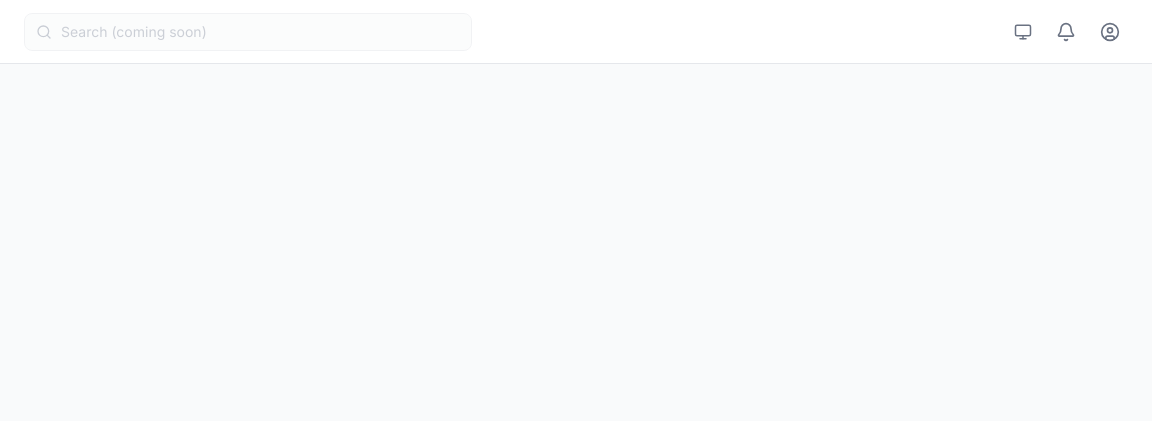
Test: Admin Header user menu › shows password form when Change Password is clicked
Click the button with test id "user-menu-button" at (1110, 32), box [1092,14,1128,50]
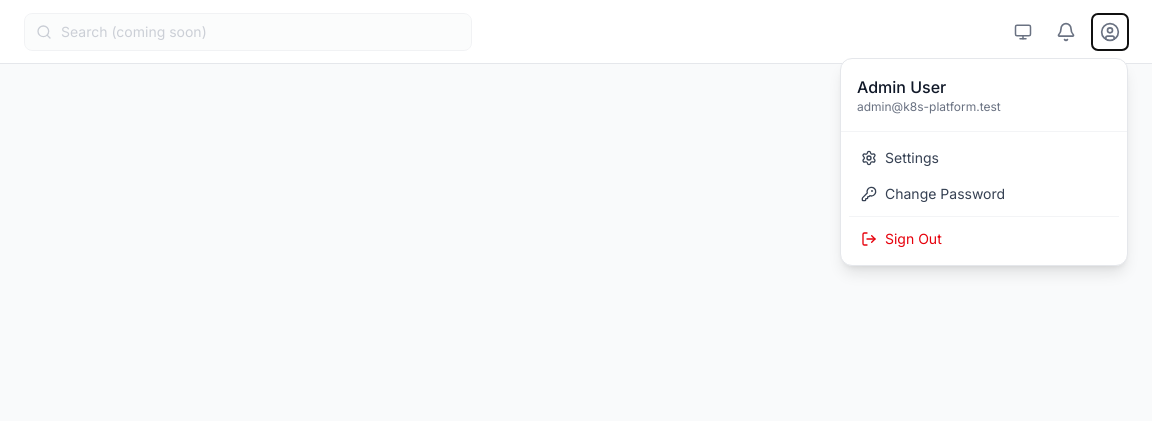
Click the button with test id "change-password-menu-item" at (984, 194), box [849,176,1119,212]
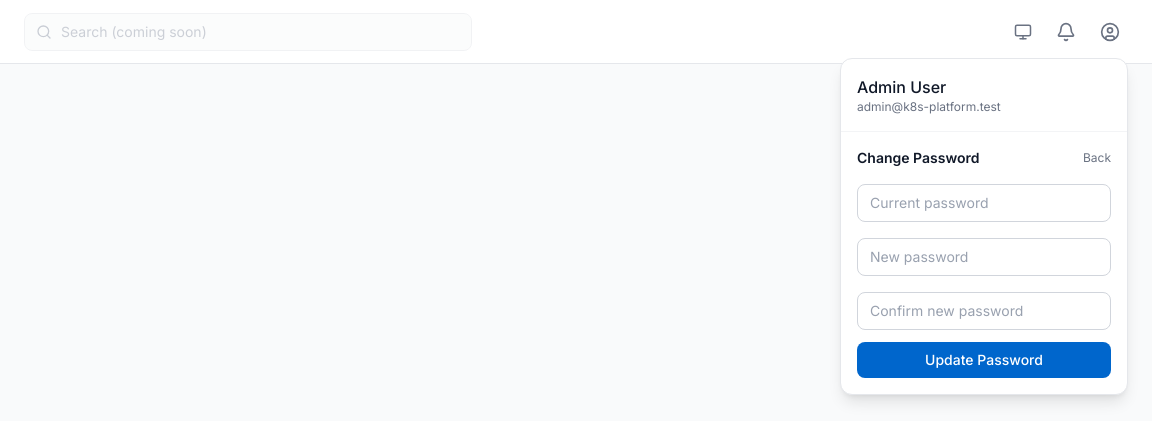
Now the element with test id "user-menu-password-form" is shown, box [841,132,1127,394]
Now the password field with test id "menu-current-password" is shown, box [857,184,1111,222]
Now the password field with test id "menu-new-password" is shown, box [857,238,1111,276]
